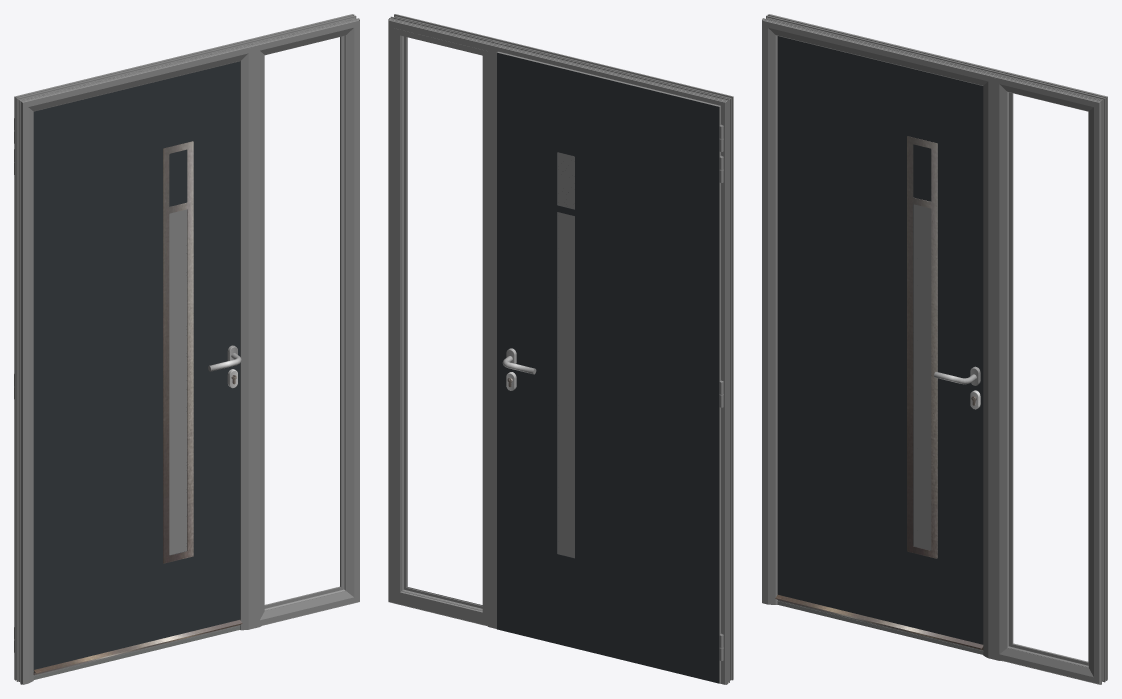
3 views of the same model, side by side, from view 1: azimuth 30°, elevation 25°; view 2: azimuth 150°, elevation 25°; view 3: azimuth 330°, elevation 25° (orthographic).
Visible parts, largest first — view 1: bloco_091, Rectangle002, Line004, alunox_055, Vidro Porta, Object, Object001, Line005, Rectangle005, Rectangle003; view 2: bloco_091, Rectangle002, Rectangle003, Vidro Porta, Line004, Object001, Rectangle004, Object; view 3: bloco_091, Rectangle002, Line004, Vidro Porta, alunox_055, Object001, Object, Line005, Rectangle003, Rectangle005.
Boxes of the visible parts, x1,y1,x2,y2 form: bloco_091: [33, 61, 240, 671]; Rectangle002: [14, 14, 359, 684]; Line004: [240, 46, 264, 630]; alunox_055: [163, 141, 193, 563]; Vidro Porta: [169, 209, 186, 554]; Object: [33, 35, 346, 680]; Object001: [264, 36, 344, 608]; Line005: [33, 620, 242, 674]; Rectangle005: [33, 625, 240, 679]; Rectangle003: [264, 37, 340, 605]; bloco_091: [497, 52, 719, 683]; Rectangle002: [388, 14, 733, 684]; Rectangle003: [394, 28, 487, 619]; Vidro Porta: [557, 152, 574, 558]; Line004: [488, 41, 504, 628]; Object001: [401, 36, 482, 610]; Rectangle004: [496, 51, 720, 683]; Object: [404, 36, 482, 608]; bloco_091: [777, 36, 983, 644]; Rectangle002: [762, 14, 1107, 684]; Line004: [983, 77, 1007, 661]; Vidro Porta: [913, 204, 931, 550]; alunox_055: [907, 136, 937, 558]; Object001: [1007, 92, 1088, 665]; Object: [776, 35, 1088, 667]; Line005: [775, 595, 983, 649]; Rectangle003: [1012, 93, 1087, 662]; Rectangle005: [777, 600, 983, 654].
Bounding box in the file's own units: 1307 × 2150 × 192.
7 materials, 4 textured.
